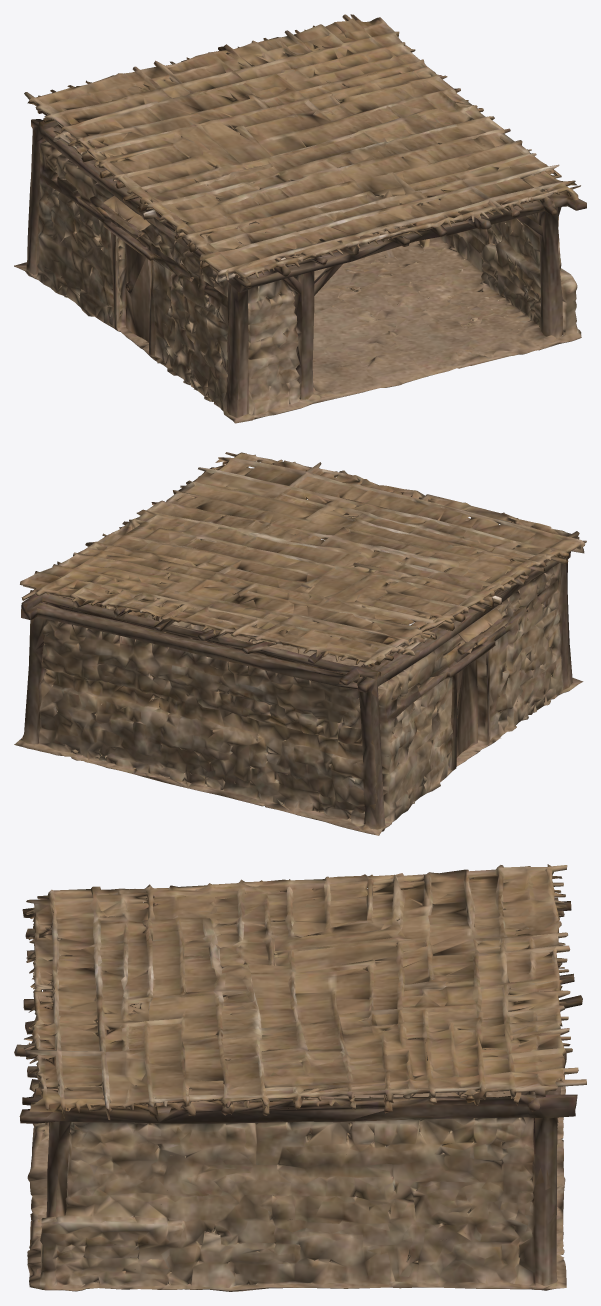
File: square-nativity-stall.glb
3 views of the same model, one above another, from view 1: azimuth 30°, elevation 25°; view 2: azimuth 150°, elevation 25°; view 3: azimuth 270°, elevation 25° (orthographic). The views are drawn at different scales.
Visible parts, largest first — view 1: geometry_0; view 2: geometry_0; view 3: geometry_0.
Boxes of the visible parts, x1,y1,x2,y2 form: geometry_0: [14, 14, 586, 423]; geometry_0: [14, 452, 586, 835]; geometry_0: [14, 864, 586, 1291].
Size of the model in its own units: 7.11 by 3.21 by 7.52.
1 material, 1 textured.
